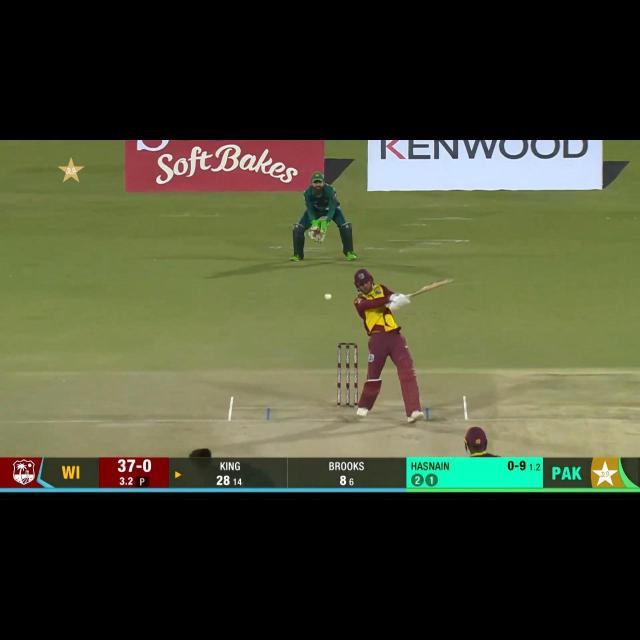bat: (406, 277, 454, 295)
toe: (446, 276, 454, 286)
